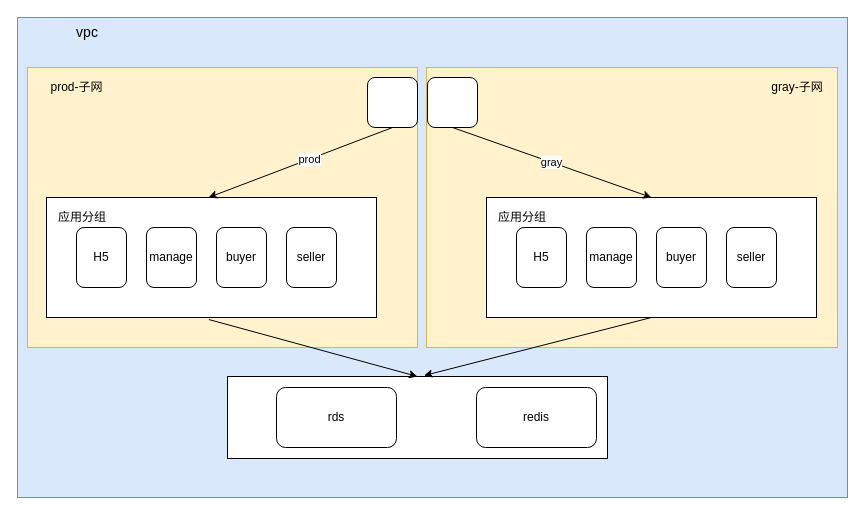
Image size: 865x515. Some labels were removed from this diagram. The centre of each missing label's shape, as x and y in pixels:
"nginx（gray）" belongs at point (452, 102).
"nginx（prod）" belongs at point (392, 102).
